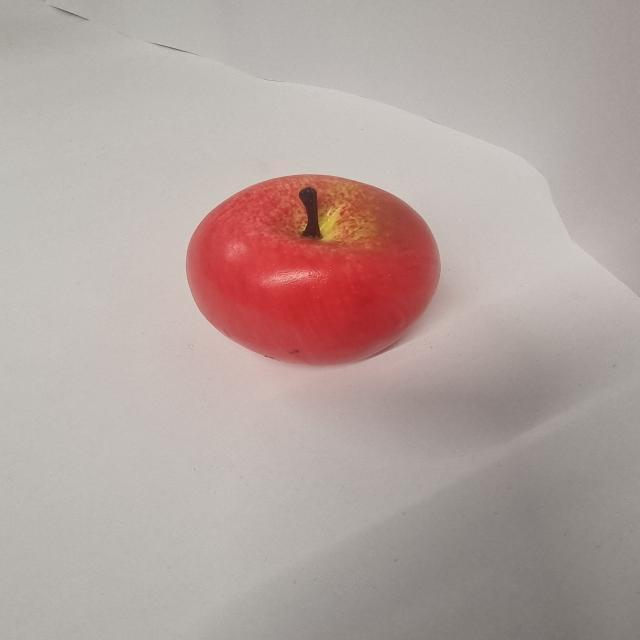apple: (184, 174, 437, 365)
